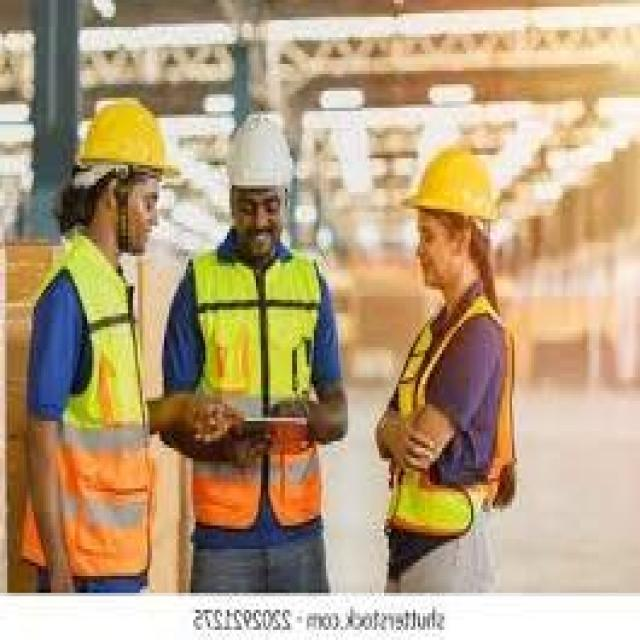reflective_jacket: (181, 232, 335, 535), (376, 286, 524, 548), (36, 235, 161, 505)
safety_helmet: (396, 128, 511, 242), (65, 87, 186, 195), (214, 101, 304, 202)
